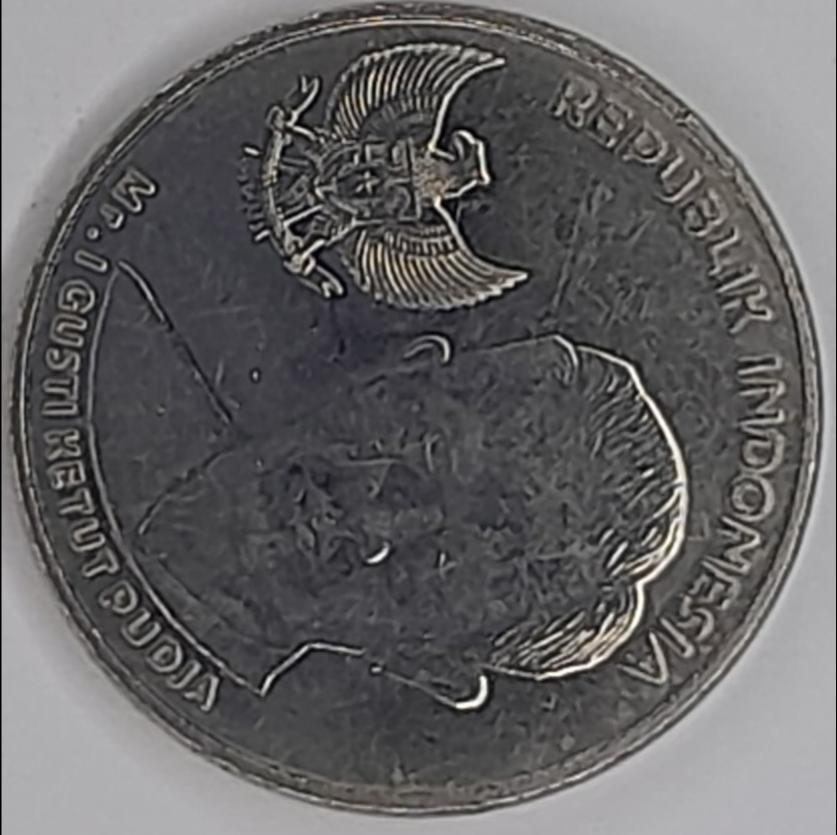coin_1000_e2016: (14, 17, 826, 835)
